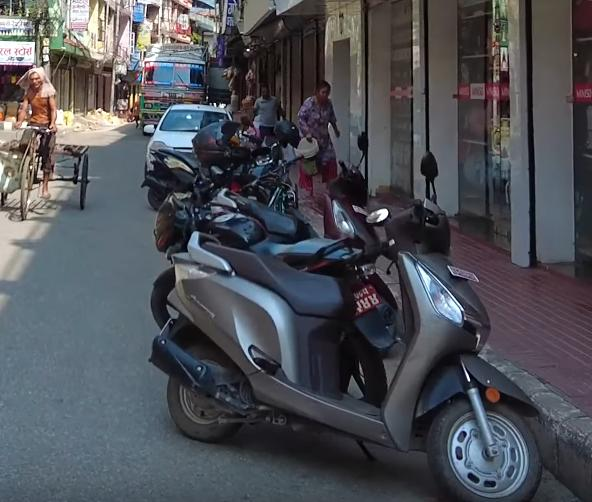car: (142, 99, 234, 176)
scooter: (141, 191, 554, 502)
truck: (137, 42, 208, 130)
